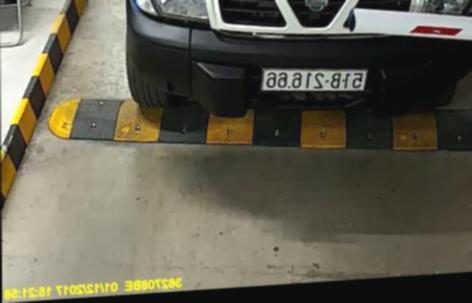License_Plate: (253, 62, 374, 97)
